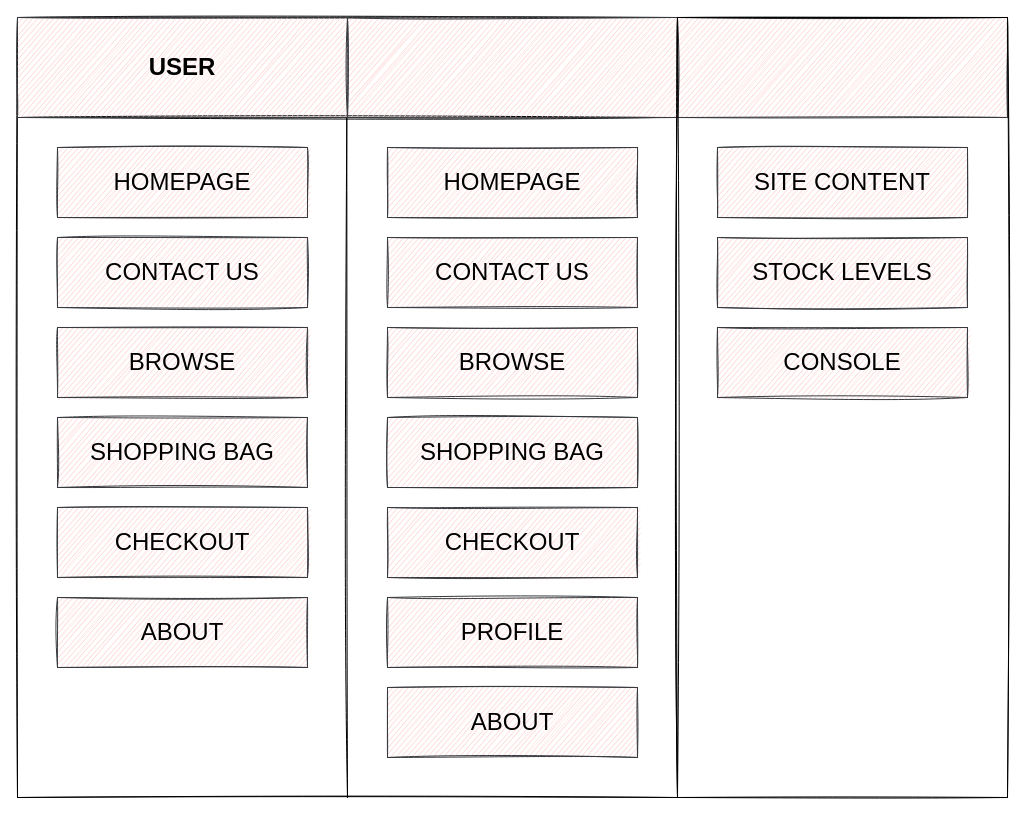
Some shapes in this 1025 by 816 pixel diagram are drawn without their labels. Each missing label, with the centre of its shape:
"ADMIN" goes at (842,67).
"SHOPPER" goes at (512,67).
